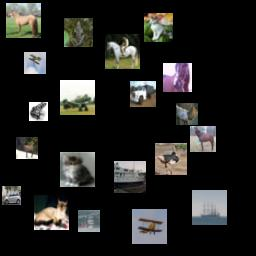airplane: (132, 209, 167, 244), (60, 80, 95, 115), (24, 52, 46, 74)
automobile: (2, 186, 21, 205)
bird: (155, 143, 187, 175)
cat: (60, 152, 95, 187), (34, 195, 69, 230), (144, 13, 173, 42)
deer: (176, 103, 198, 125), (16, 137, 38, 159)
frog: (64, 18, 93, 47), (29, 102, 48, 121)
ship: (192, 190, 227, 225), (114, 161, 146, 193), (78, 210, 100, 232)
truck: (130, 81, 156, 107)
